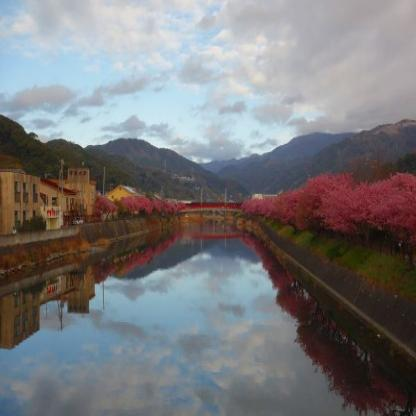KawazuSakura: (240, 168, 415, 259), (91, 184, 192, 221)
